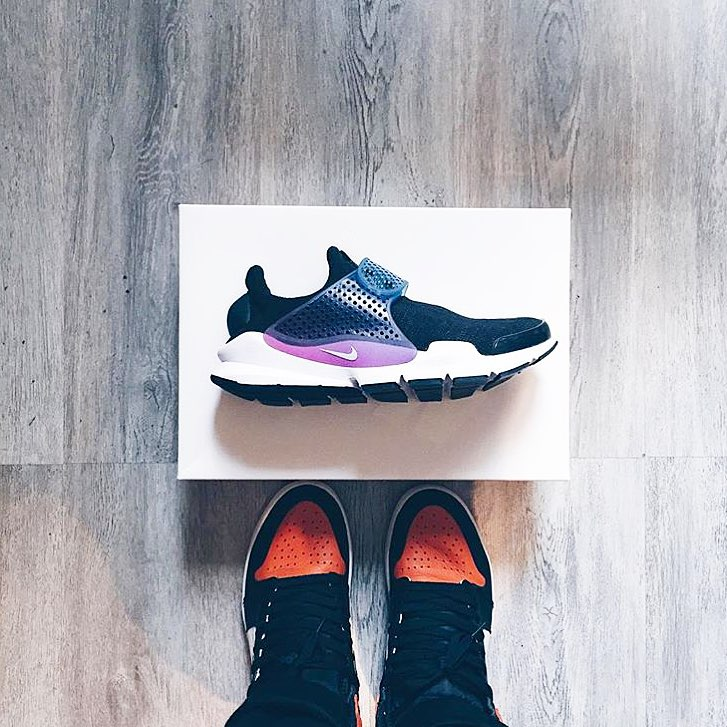sneaker: (209, 475, 379, 725), (366, 479, 517, 727)
